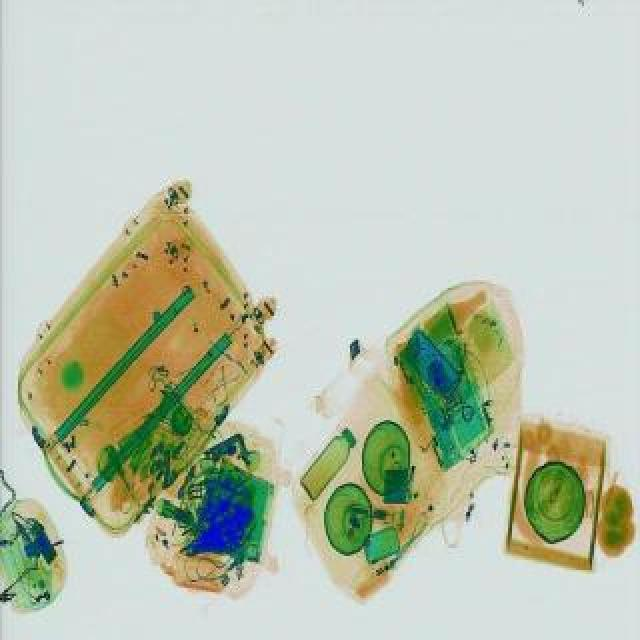wrench: (188, 464, 260, 522)
